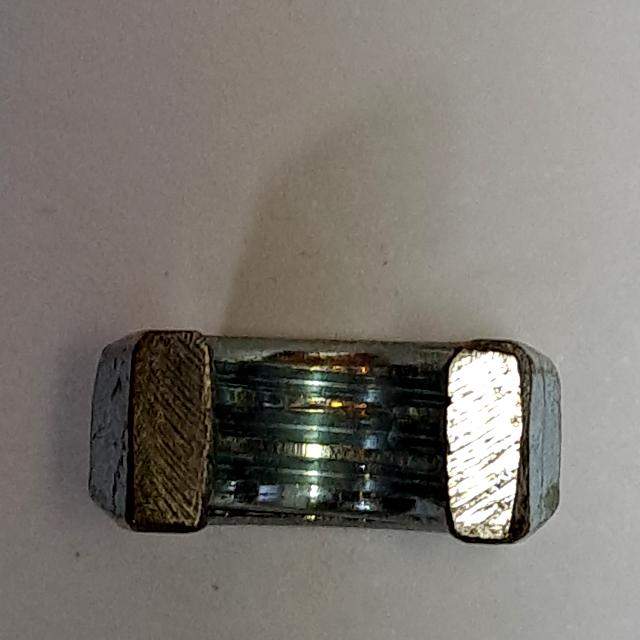Side-Fracture: (71, 308, 581, 568)
